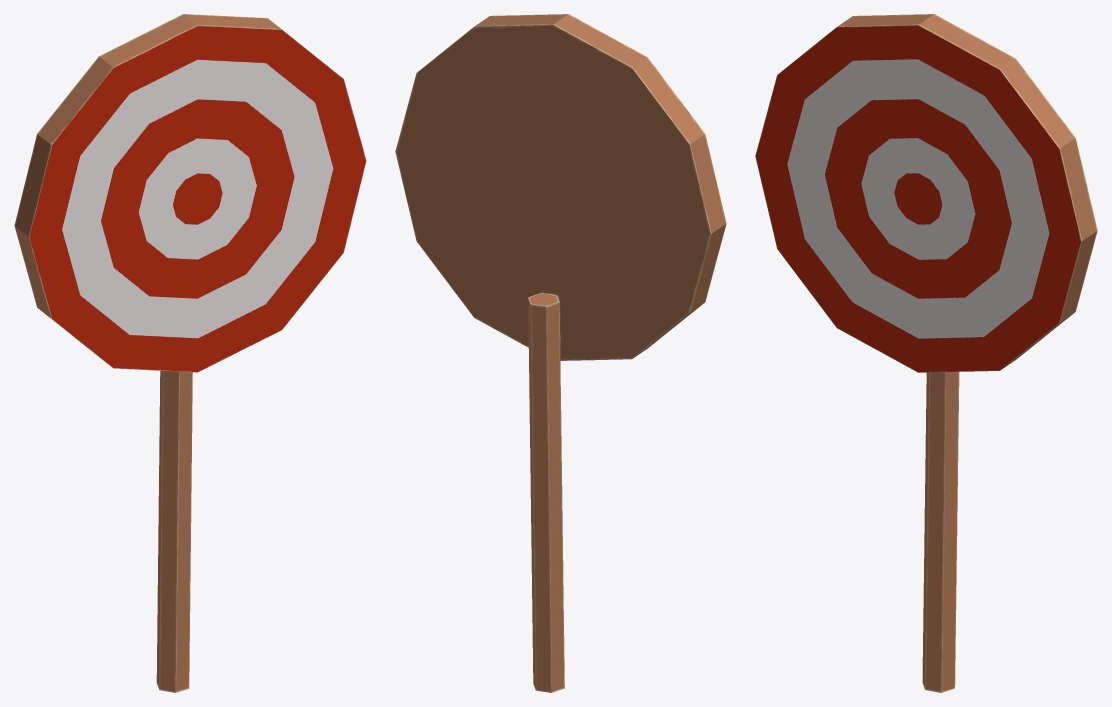
File: prop-bullseye.glb
3 views of the same model, side by side, from view 1: azimuth 30°, elevation 25°; view 2: azimuth 150°, elevation 25°; view 3: azimuth 330°, elevation 25° (orthographic). The views are drawn at different scales.
Parts seen in each view (by area): view 1: bake.013; view 2: bake.013; view 3: bake.013.
Part boxes in pixels (<box>): bake.013: <box>14,14,366,692</box>; bake.013: <box>395,14,726,692</box>; bake.013: <box>755,14,1097,692</box>.
Size of the model in its own units: 1.15 by 2.25 by 0.2052.
1 material, 1 textured.
